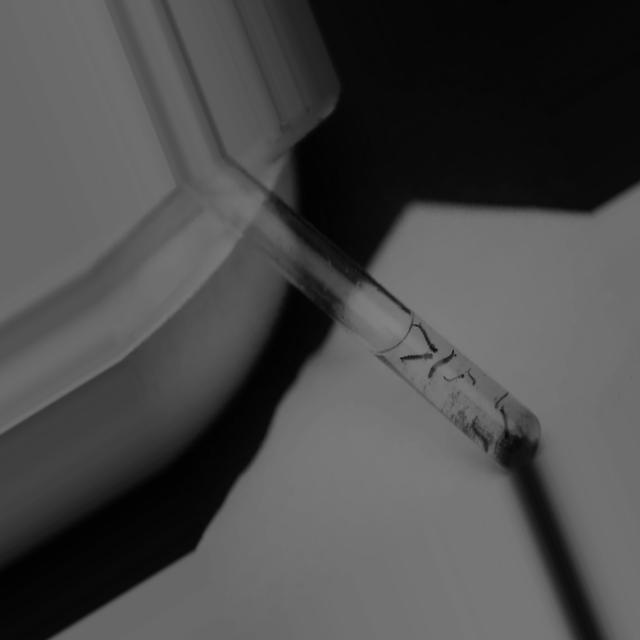larvas: (425, 345, 458, 381), (413, 317, 441, 357), (470, 424, 489, 448), (399, 352, 434, 362), (500, 408, 510, 441), (494, 387, 508, 407), (445, 374, 464, 385), (468, 366, 476, 384)
